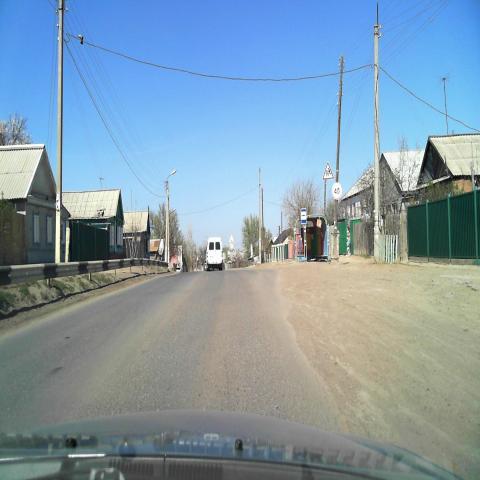5_16: (300, 207, 308, 226)
